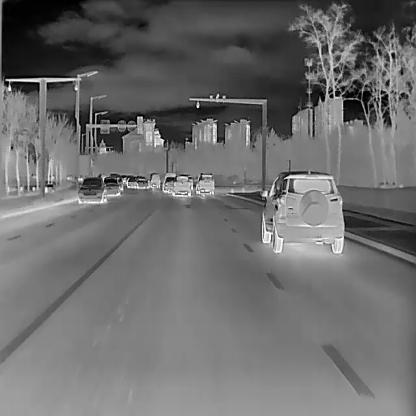car: (259, 169, 344, 253), (77, 176, 106, 203), (195, 171, 214, 195), (171, 174, 190, 196), (104, 176, 120, 195), (109, 174, 122, 190), (163, 175, 174, 191), (149, 171, 160, 187), (137, 177, 148, 188), (127, 176, 137, 187)
